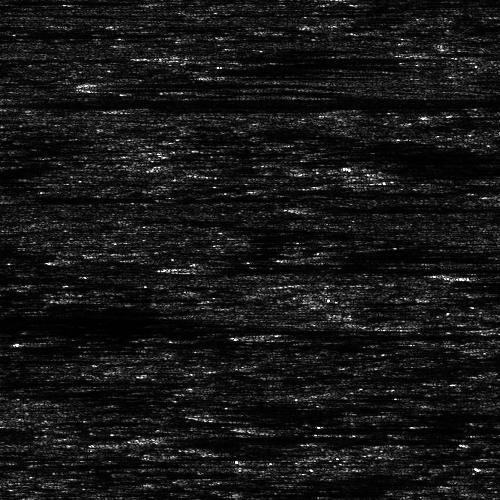rock: (101, 430, 226, 447), (469, 63, 500, 96), (143, 264, 216, 275), (72, 77, 135, 88), (203, 425, 296, 432), (0, 94, 41, 109), (127, 52, 210, 59), (0, 191, 47, 202), (224, 330, 297, 337), (191, 72, 254, 79), (278, 205, 331, 210), (0, 52, 14, 63), (305, 253, 336, 256), (370, 414, 401, 417)
shadow: (0, 94, 452, 109), (164, 430, 451, 447), (180, 264, 467, 275), (0, 191, 250, 202), (104, 77, 269, 88), (250, 425, 500, 432), (169, 52, 392, 59), (0, 52, 107, 63), (305, 205, 482, 210), (223, 72, 338, 79), (321, 253, 500, 256), (261, 330, 322, 337), (386, 414, 500, 417), (0, 379, 62, 384)
